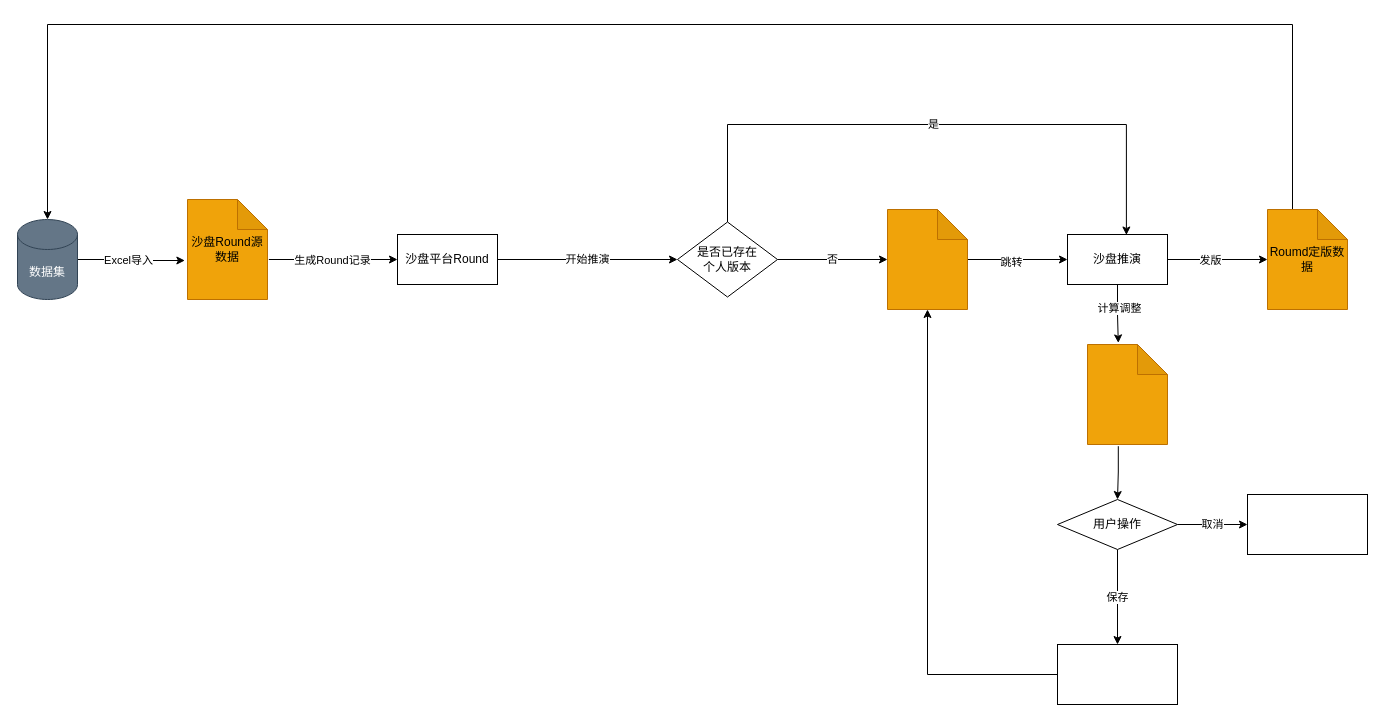
Some shapes in this 1385 by 722 pixel diagram are drawn without their labels. The centre of each missing label's shape, as x and y in pixels:
个人测算副本数据: pixel 1127 394
个人测算数据（源）: pixel 927 259
副本删除: pixel 1307 524
副本覆盖源数据: pixel 1117 674
